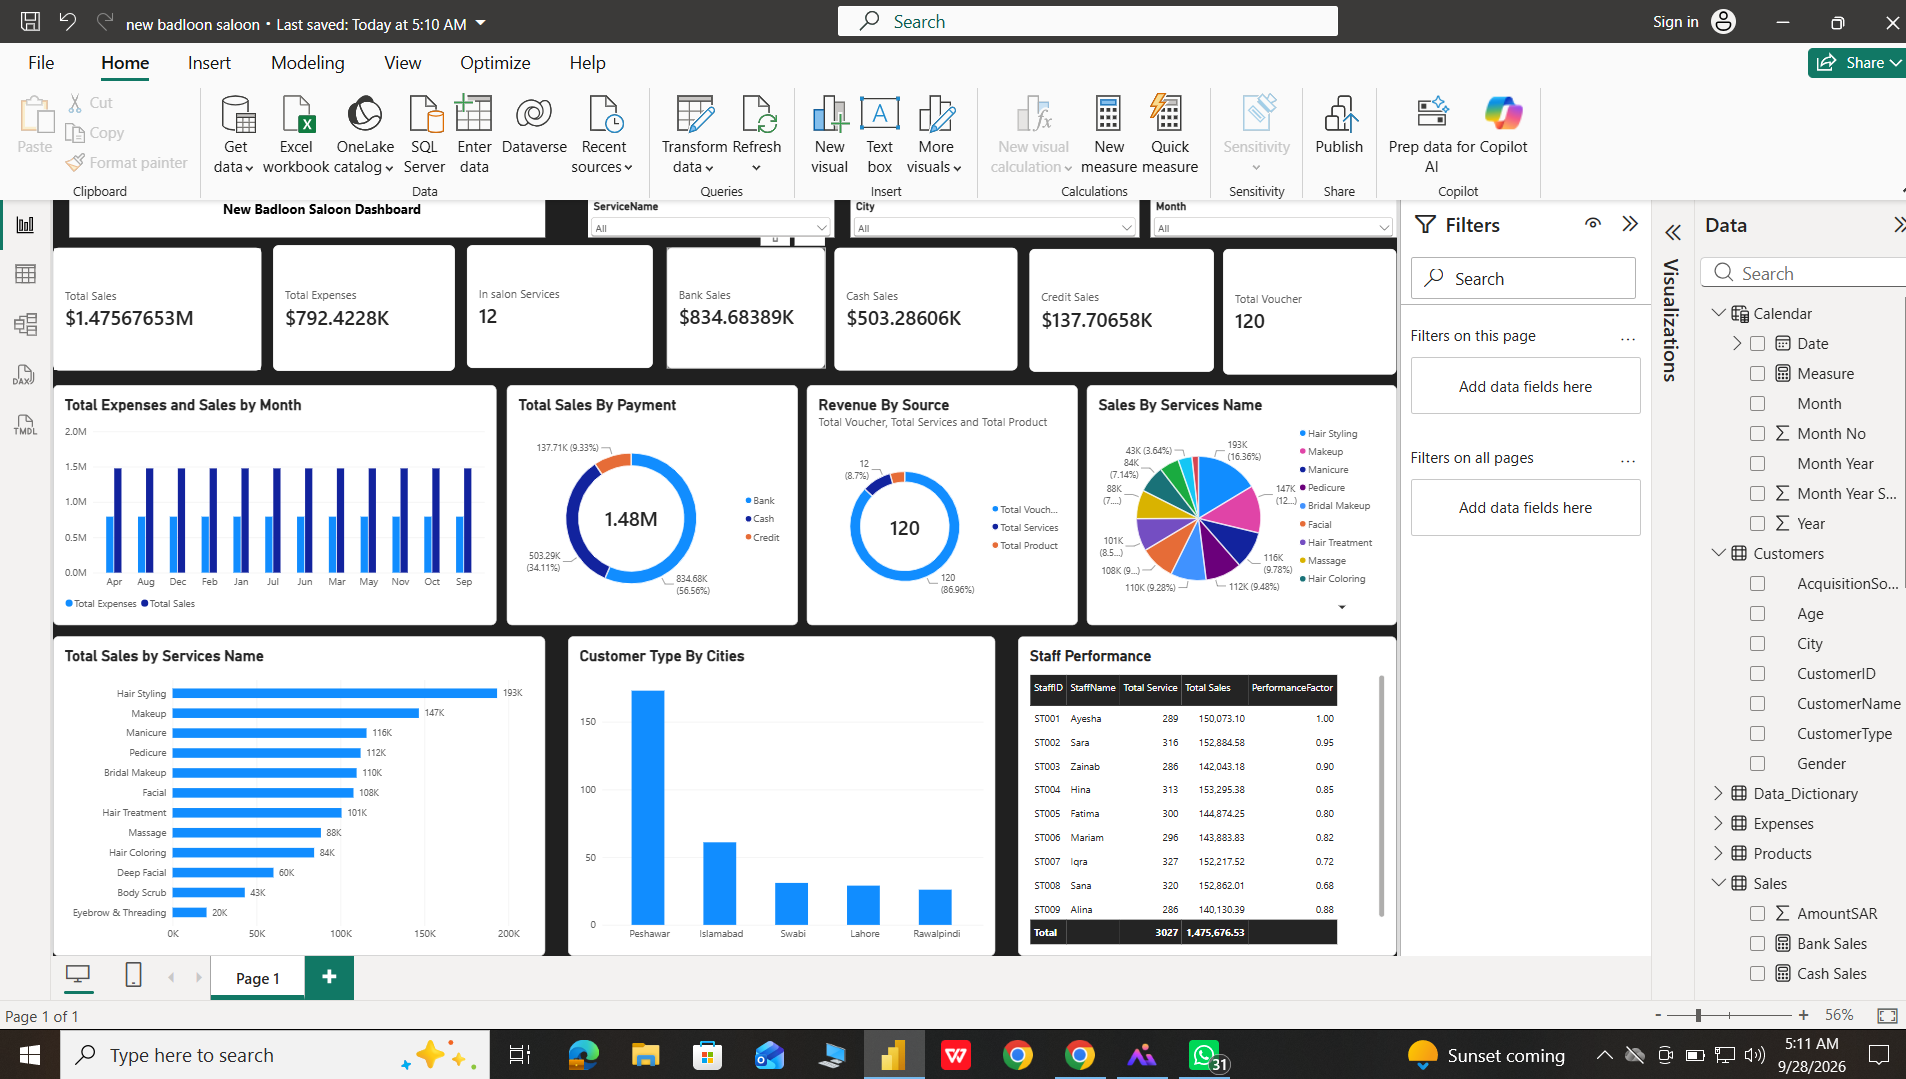

This screenshot's page, from the dashboard's own definition file:
{"tool":"powerbi","page":{"name":"Page 1","canvas":[1920,1080],"ordinal":0},"visuals":[{"type":"cardVisual","fields":{"Data":["Sales.Total Sales"]},"box":[0,67.9,298.2,176.8],"z":0},{"type":"cardVisual","fields":{"Data":["Expenses.Total Expenses"]},"box":[314.3,64.3,260.7,180.4],"z":1000},{"type":"cardVisual","fields":{"Data":["Services.In salon Services"]},"box":[591.1,64.3,266.1,176.8],"z":2000},{"type":"cardVisual","fields":{"Data":["Sales.Bank Sales"]},"box":[876.8,67.9,226.8,173.2],"z":3000},{"type":"cardVisual","fields":{"Data":["Sales.Cash Sales"]},"box":[1116.1,67.9,262.5,176.8],"z":4000},{"type":"cardVisual","fields":{"Data":["Sales.Credit Sales"]},"box":[1394.7,69.6,264.3,176.8],"z":5000},{"type":"clusteredColumnChart","title":"Total Expenses and Sales by Month","fields":{"Category":["Calendar.Month"],"Y":["Expenses.Total Expenses","Sales.Total Sales"]},"box":[0,264.3,633.9,342.9],"z":6001},{"type":"donutChart","title":"Total Sales By Payment","fields":{"Category":["Sales.PaymentMethod"],"Y":["Sales.Total Sales"]},"box":[648.2,264.3,416.1,342.9],"z":6002},{"type":"barChart","title":"Total Sales by Services Name","fields":{"Category":["Services.ServiceName"],"Y":["Sales.Total Sales"]},"box":[0,623.2,703.6,457.1],"z":6003},{"type":"donutChart","title":"Revenue By Source","fields":{"Y":["Vouchers.Total Voucher","Services.Total Services","Products.Total PProduct"]},"box":[1076.8,264.3,387.5,342.9],"z":6004},{"type":"tableEx","title":"Staff Performance ","fields":{"Values":["Staff.StaffID","Staff.StaffName","Services.Total Service","Sales.Total Sales","Staff.PerformanceFactor"]},"box":[1378.6,623.2,541.1,457.1],"z":6005},{"type":"pieChart","title":"Sales By Services Name ","fields":{"Category":["Services.ServiceName"],"Y":["Sales.Total Sales"]},"box":[1476.8,264.3,442.9,342.9],"z":6006},{"type":"cardVisual","fields":{"Data":["Vouchers.Total Voucher"]},"box":[1671.4,69.6,248.2,180.4],"z":6007},{"type":"slicer","fields":{"Values":["Services.ServiceName"]},"box":[764.3,0,351.8,53.6],"z":6008},{"type":"slicer","fields":{"Values":["Customers.City"]},"box":[1139.3,0,412.5,53.6],"z":6009},{"type":"slicer","fields":{"Values":["Calendar.Month"]},"box":[1567.9,0,351.8,53.6],"z":6010},{"type":"clusteredColumnChart","title":"Customer Type By Cities","fields":{"Category":["Customers.City"],"Y":["CountNonNull(Customers.CustomerType)"]},"box":[735.7,623.2,610.7,457.1],"z":6011},{"type":"textbox","box":[23.2,0,680.4,53.6],"z":6012}]}

Visuals, with their boxes on the page's 1920x1080 design canvas (x1, y1, x2, y2). These are canvas units, not pixel positions in the 1906x1079 screenshot, which may show the page scaled, cropped or inside an application window:
cardVisual - Sales.Total Sales: 0,68,298,245
cardVisual - Expenses.Total Expenses: 314,64,575,245
cardVisual - Services.In salon Services: 591,64,857,241
cardVisual - Sales.Bank Sales: 877,68,1104,241
cardVisual - Sales.Cash Sales: 1116,68,1379,245
cardVisual - Sales.Credit Sales: 1395,70,1659,246
"Total Expenses and Sales by Month" clusteredColumnChart: 0,264,634,607
"Total Sales By Payment" donutChart: 648,264,1064,607
"Total Sales by Services Name" barChart: 0,623,704,1080
"Revenue By Source" donutChart: 1077,264,1464,607
"Staff Performance " tableEx: 1379,623,1920,1080
"Sales By Services Name " pieChart: 1477,264,1920,607
cardVisual - Vouchers.Total Voucher: 1671,70,1920,250
slicer - Services.ServiceName: 764,0,1116,54
slicer - Customers.City: 1139,0,1552,54
slicer - Calendar.Month: 1568,0,1920,54
"Customer Type By Cities" clusteredColumnChart: 736,623,1346,1080
textbox: 23,0,704,54
